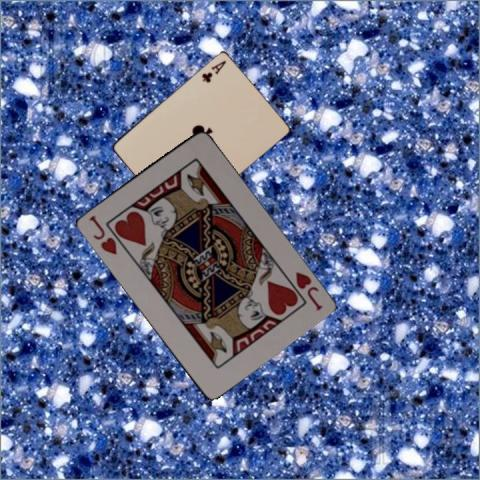Ac: (199, 57, 227, 84)
Jh: (85, 212, 118, 257), (292, 268, 324, 313)
